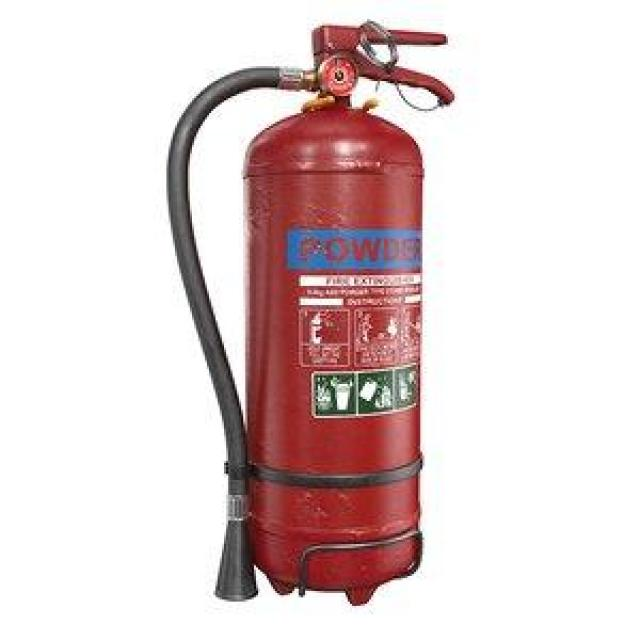fire_extinguisher: (158, 18, 452, 611)
